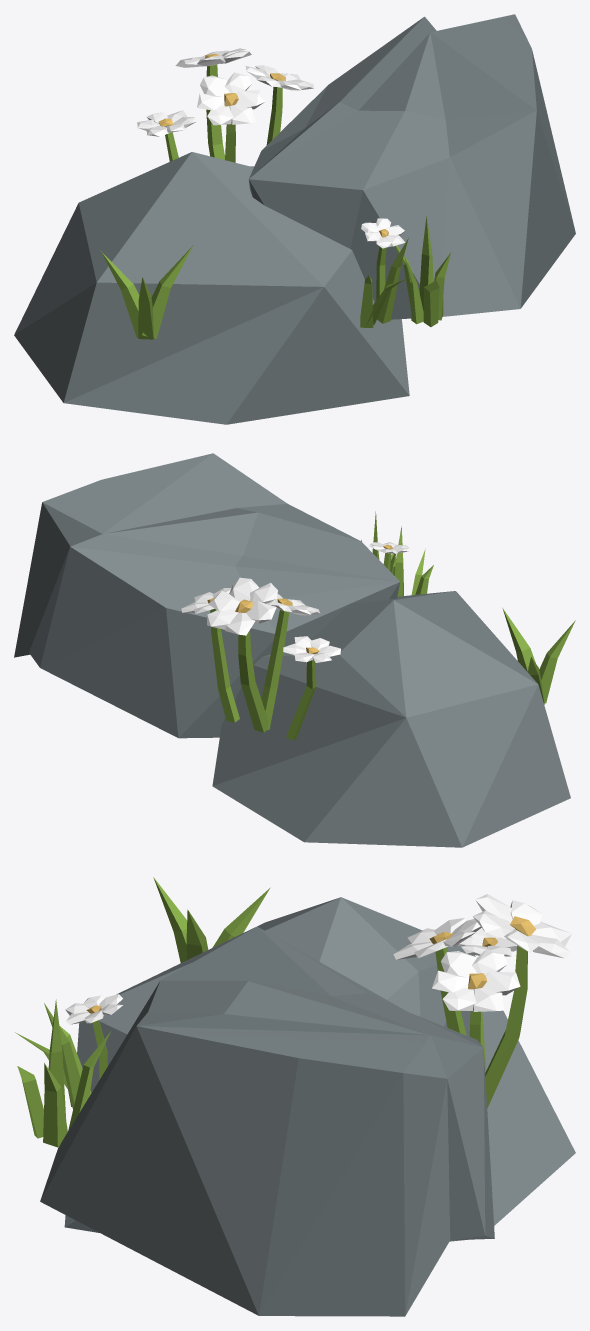
The model's file is Rock_10.fbx.
The picture shows the model from 3 angles, top to bottom: view 1: azimuth 30°, elevation 25°; view 2: azimuth 150°, elevation 25°; view 3: azimuth 270°, elevation 25°; orthographic projection. The views are drawn at different scales.
Parts seen in each view (by area): view 1: Rock_10; view 2: Rock_10; view 3: Rock_10.
Part boxes in pixels (x1=…): Rock_10: x1=14, y1=14, x2=575, y2=424; Rock_10: x1=14, y1=453, x2=575, y2=847; Rock_10: x1=15, y1=877, x2=575, y2=1316.
Bounding box in the file's own units: 118 × 48.93 × 81.54.
